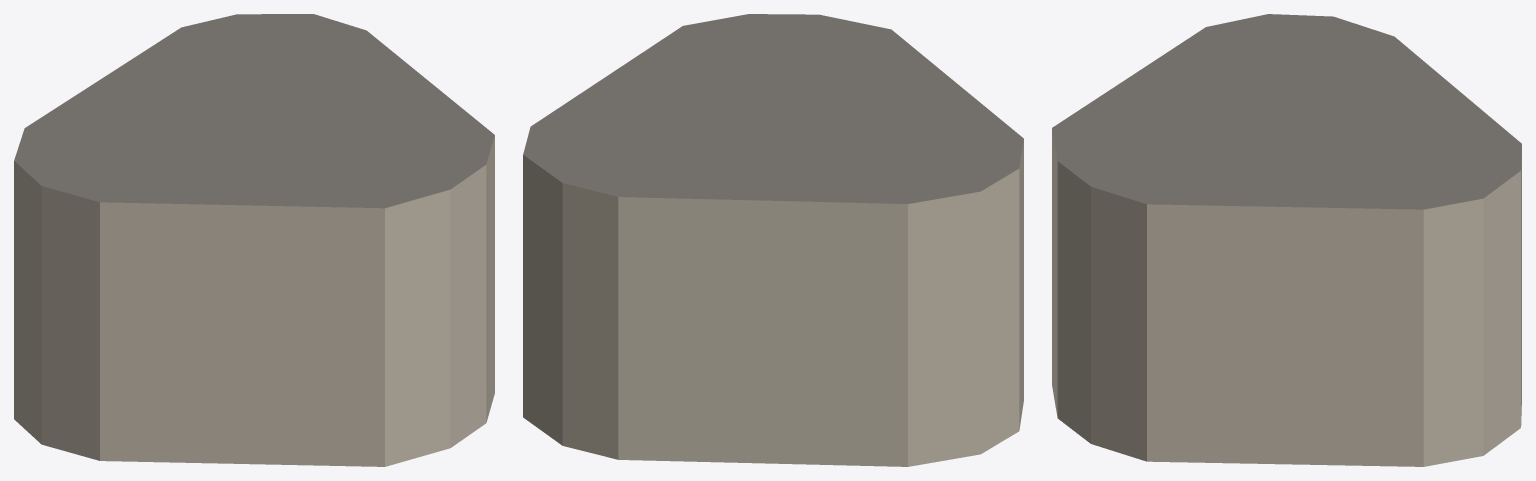
3 views of the same model, side by side, from view 1: azimuth 30°, elevation 25°; view 2: azimuth 150°, elevation 25°; view 3: azimuth 270°, elevation 25° (orthographic). The views are drawn at different scales.
Parts seen in each view (by area): view 1: HP-w299010047; view 2: HP-w299010047; view 3: HP-w299010047.
Boxes of the visible parts, x1,y1,x2,y2 form: HP-w299010047: [14, 14, 494, 466]; HP-w299010047: [523, 14, 1023, 466]; HP-w299010047: [1052, 14, 1521, 466].
Bounding box in the file's own units: 29.35 × 18 × 29.79.
